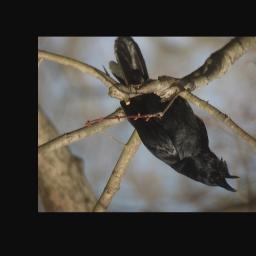Crow: (107, 37, 243, 196)
